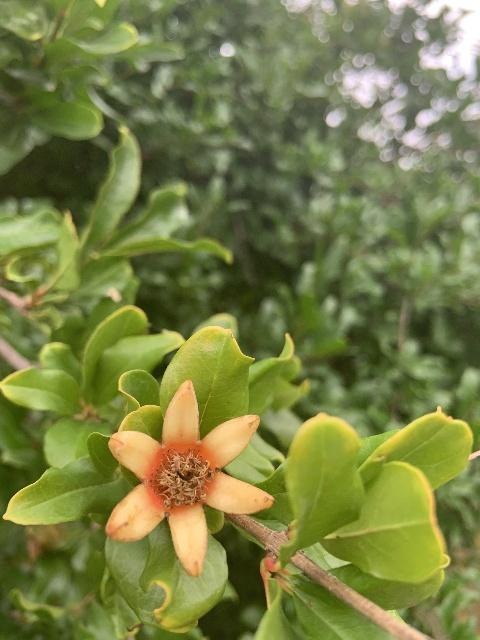flower: (104, 379, 274, 577)
